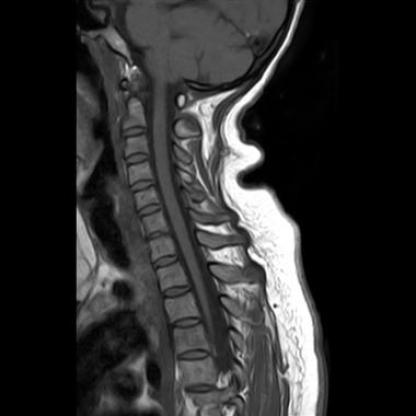Degenerative Disc Diseaserotation: (145, 225, 174, 241)
